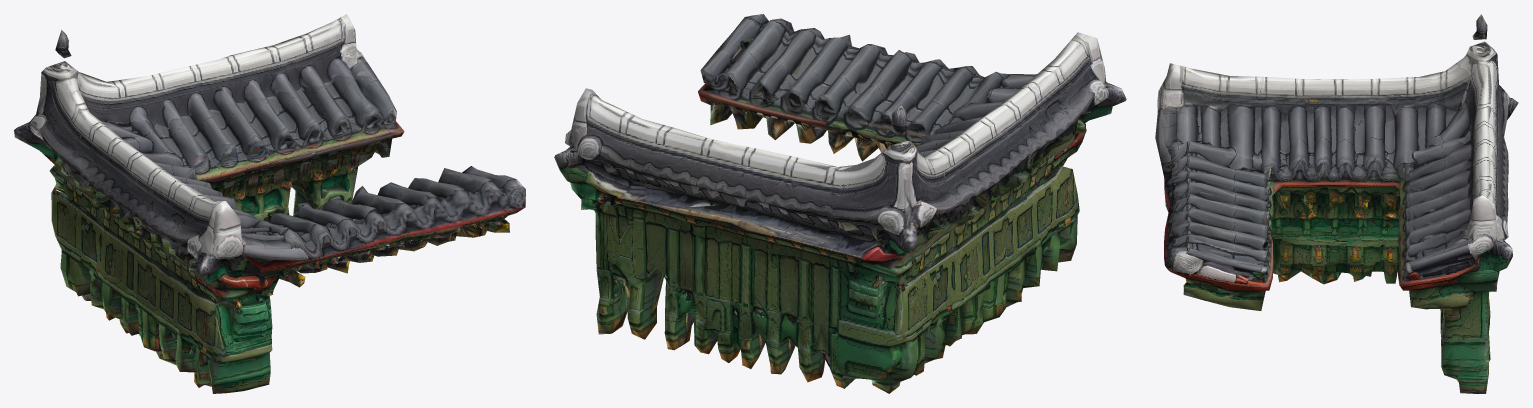
Rendered from 경복궁_모서리기와.glb.
3 views of the same model, side by side, from view 1: azimuth 30°, elevation 25°; view 2: azimuth 150°, elevation 25°; view 3: azimuth 270°, elevation 25° (orthographic). The views are drawn at different scales.
Parts seen in each view (by area): view 1: texture_mapping; view 2: texture_mapping; view 3: texture_mapping.
Boxes of the visible parts, x1,y1,x2,y2 form: texture_mapping: [14, 14, 525, 393]; texture_mapping: [554, 14, 1126, 393]; texture_mapping: [1155, 14, 1518, 393].
Bounding box in the file's own units: 0.9939 × 0.7685 × 0.9893.
Materials: 1 (1 with a texture image).
